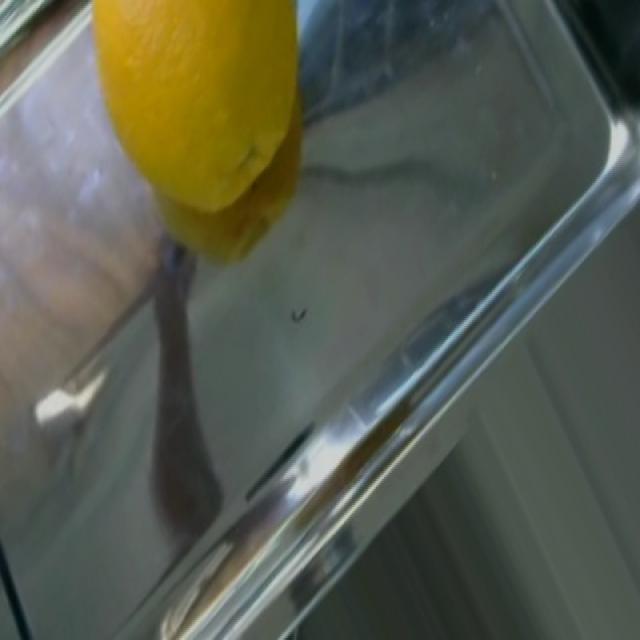Fruit: (67, 0, 333, 292)
